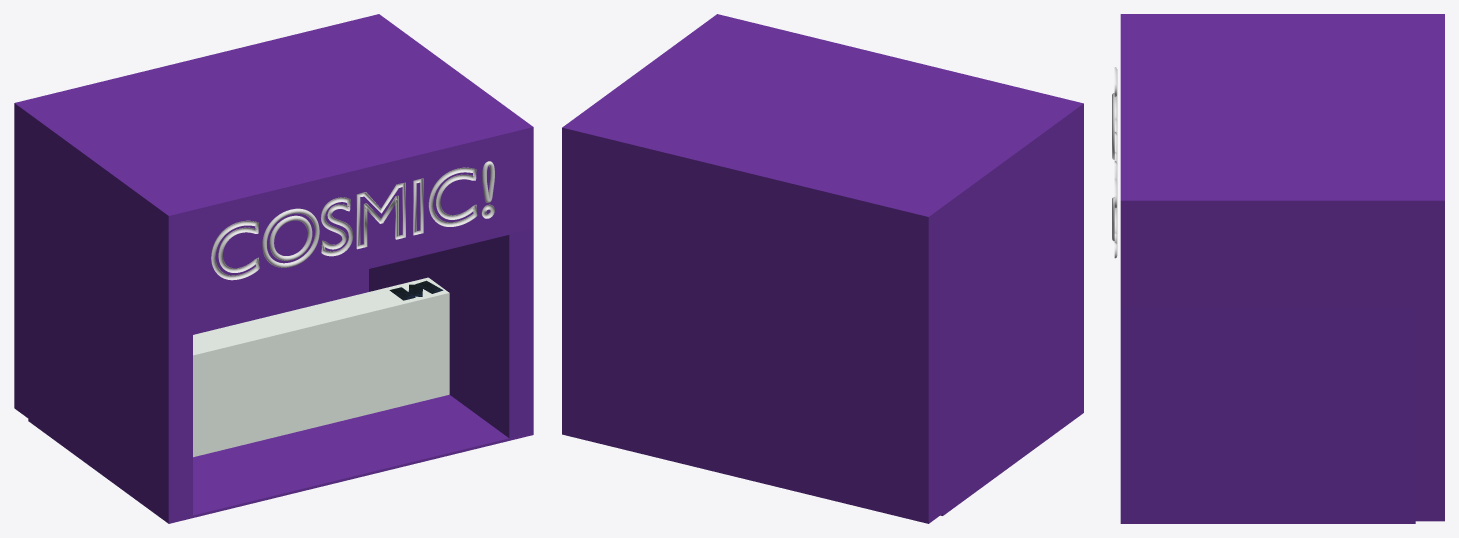
File: Shop_Beta.fbx
The picture shows the model from 3 angles, left to right: view 1: azimuth 30°, elevation 25°; view 2: azimuth 150°, elevation 25°; view 3: azimuth 270°, elevation 25°; orthographic projection. The views are drawn at different scales.
Parts seen in each view (by area): view 1: Cube.001, Pillar.001, Cube.002, Cube, Pillar, Text, Pillar.002; view 2: Cube.001, Pillar.002, Pillar.001; view 3: Cube.001, Pillar, Pillar.002, Text, Cube.
Boxes of the visible parts, bbox=[...] form: Cube.001: bbox=[14, 14, 533, 317]; Pillar.001: bbox=[28, 215, 192, 521]; Cube.002: bbox=[193, 277, 449, 457]; Cube: bbox=[28, 394, 533, 523]; Pillar: bbox=[369, 229, 533, 438]; Text: bbox=[211, 161, 494, 280]; Pillar.002: bbox=[14, 205, 368, 417]; Cube.001: bbox=[562, 14, 1083, 319]; Pillar.002: bbox=[562, 230, 942, 523]; Pillar.001: bbox=[942, 206, 1083, 513]; Cube.001: bbox=[1120, 14, 1444, 307]; Pillar: bbox=[1120, 307, 1415, 521]; Pillar.002: bbox=[1415, 307, 1444, 521]; Text: bbox=[1112, 67, 1117, 258]; Cube: bbox=[1120, 521, 1415, 523].
Bounding box in the file's own units: 3000 × 2420 × 2260.
